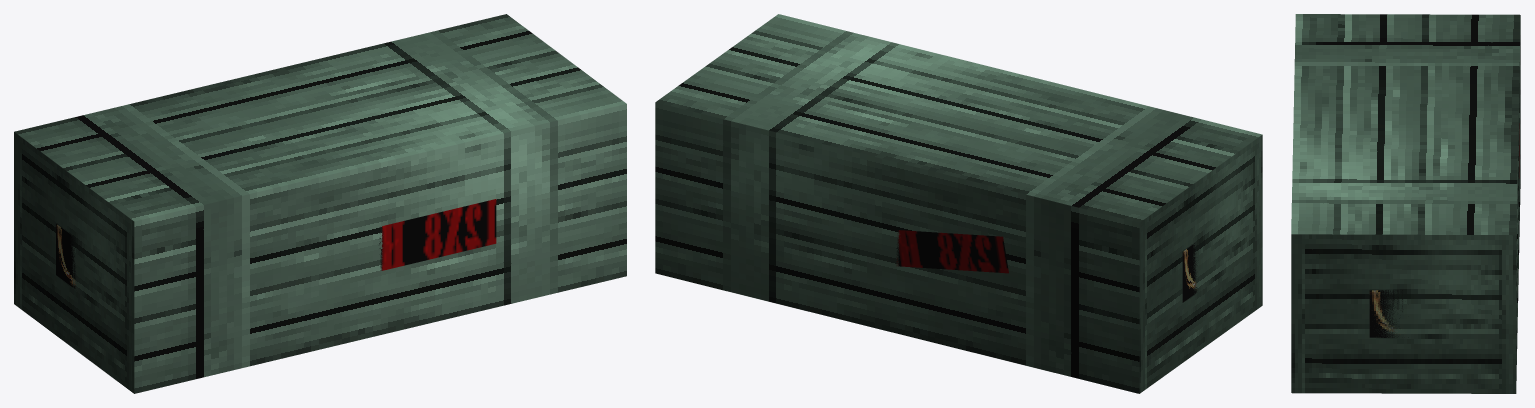
The model's file is primary_049.glb.
The picture shows the model from 3 angles, left to right: view 1: azimuth 30°, elevation 25°; view 2: azimuth 150°, elevation 25°; view 3: azimuth 270°, elevation 25°; orthographic projection. The views are drawn at different scales.
Visible parts, largest first — view 1: Object; view 2: Object; view 3: Object.
Boxes of the visible parts, x1,y1,x2,y2 form: Object: [14, 14, 626, 393]; Object: [655, 14, 1262, 393]; Object: [1291, 14, 1520, 393].
Bounding box in the file's own units: 1.38 × 0.4615 × 0.6047.
Materials: 7 (7 with a texture image).
